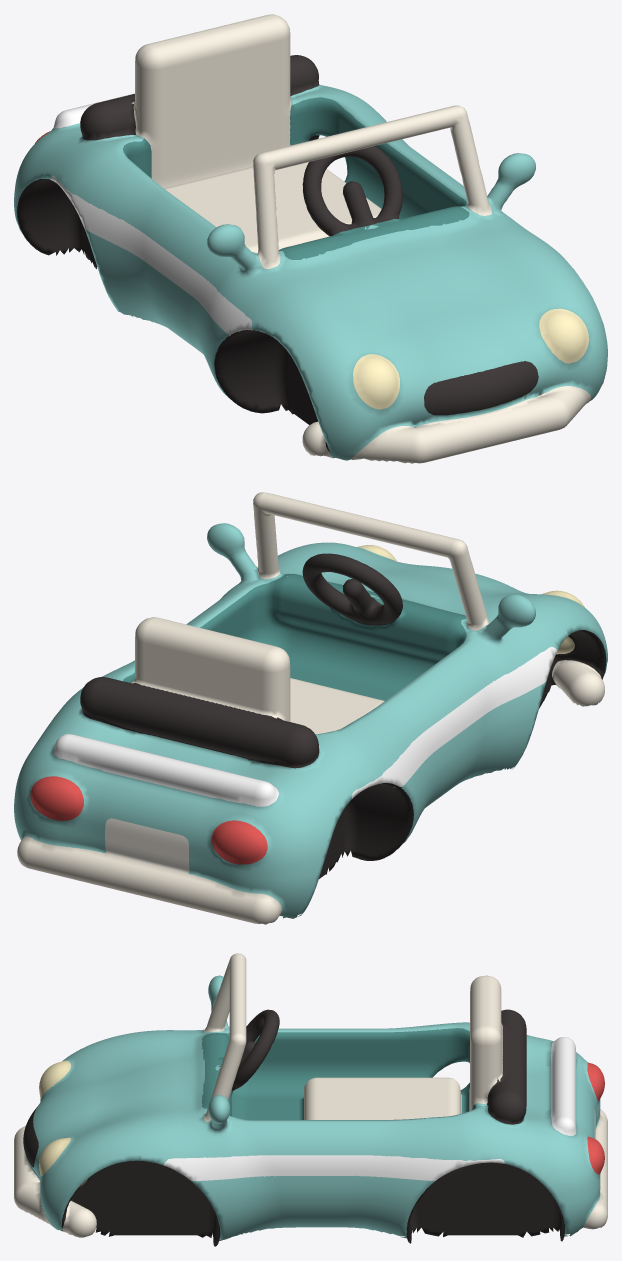
The model's file is kart.glb.
3 renders of one model, top to bottom at view 1: azimuth 30°, elevation 25°; view 2: azimuth 150°, elevation 25°; view 3: azimuth 270°, elevation 25°, orthographic. The views are drawn at different scales.
Parts seen in each view (by area): view 1: kart; view 2: kart; view 3: kart.
Boxes of the visible parts, bbox=[...] form: kart: bbox=[14, 14, 607, 463]; kart: bbox=[14, 492, 607, 924]; kart: bbox=[14, 953, 607, 1246].
Bounding box in the file's own units: 2.02 × 1.46 × 3.79.
